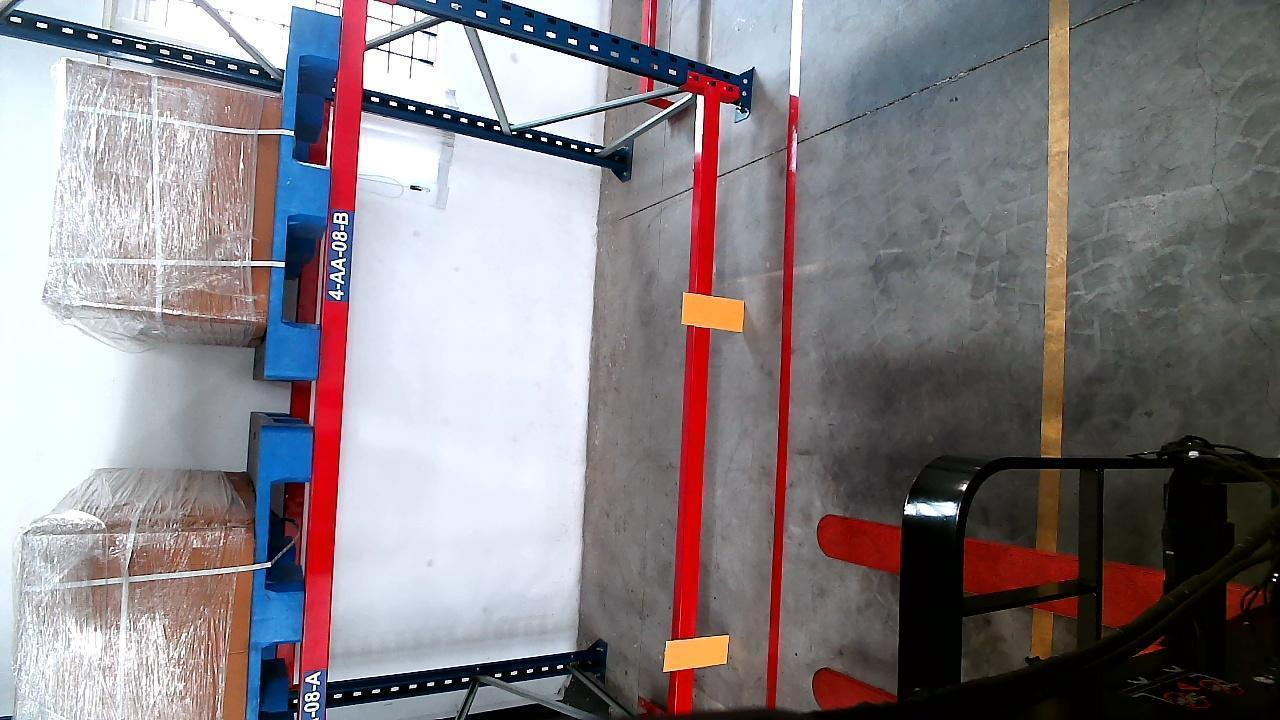red_line: (763, 1, 807, 701)
yellow_line: (1029, 0, 1072, 662)
